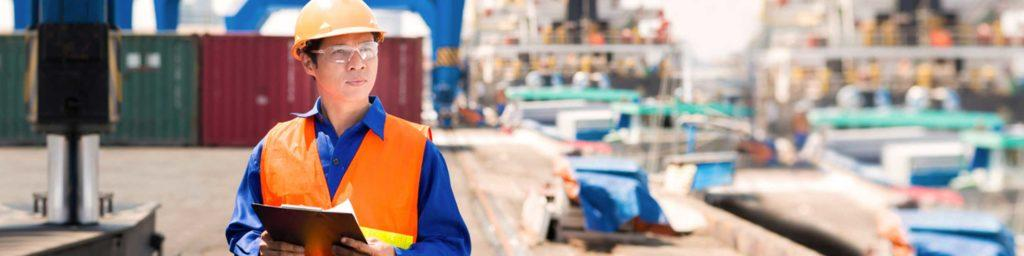helmet: (287, 1, 382, 59)
